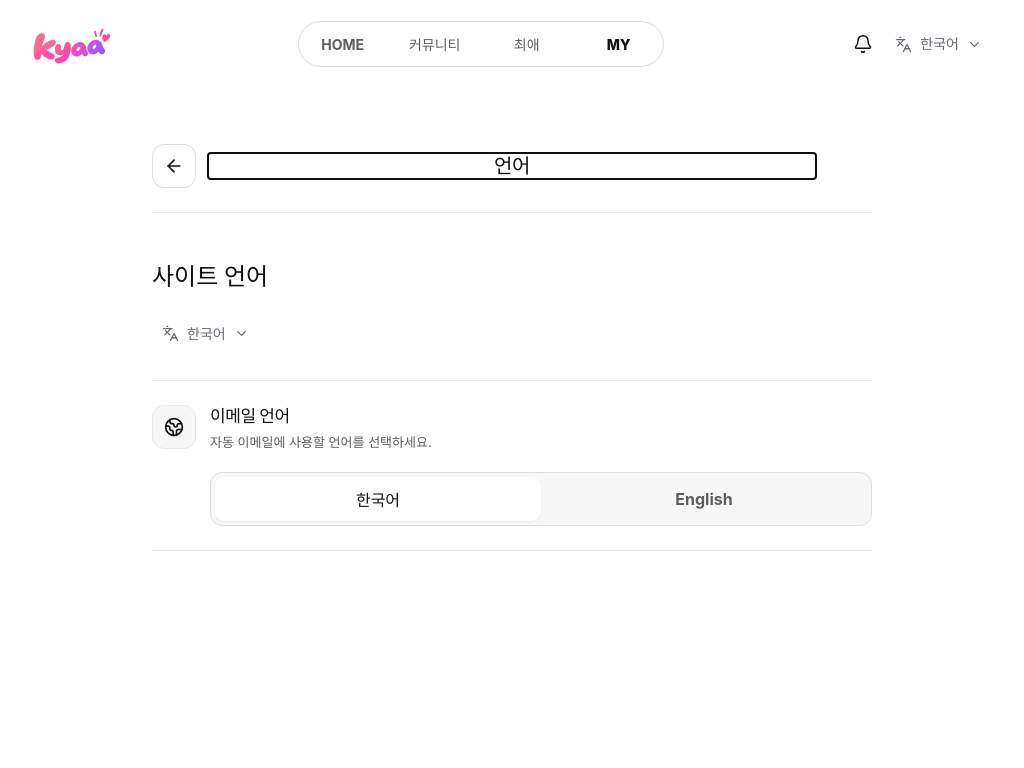
Test: FAN-020 settings › keeps the current language and allows retry when locale persistence fails
This screenshot has width=1024, height=768.
Step 1. Click the button "English" → point(704, 499), box [541,477,867,521]
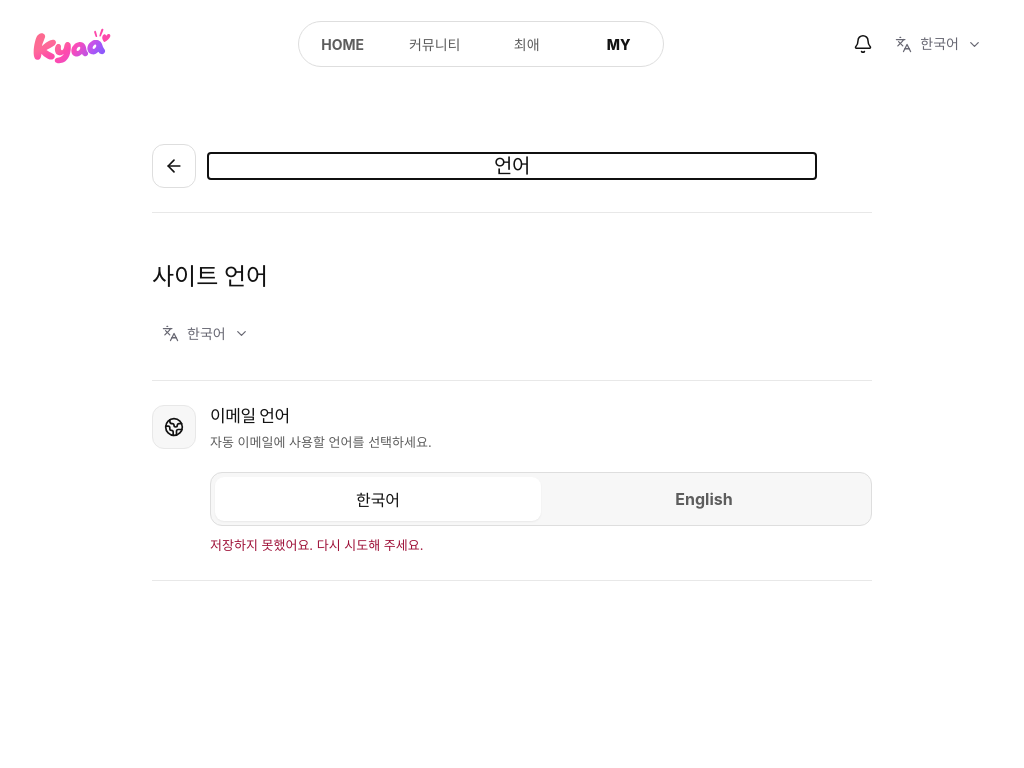
Check: the message reads "저장하지 못했어요. 다시 시도해 주세요.", box [210,537,424,553]
